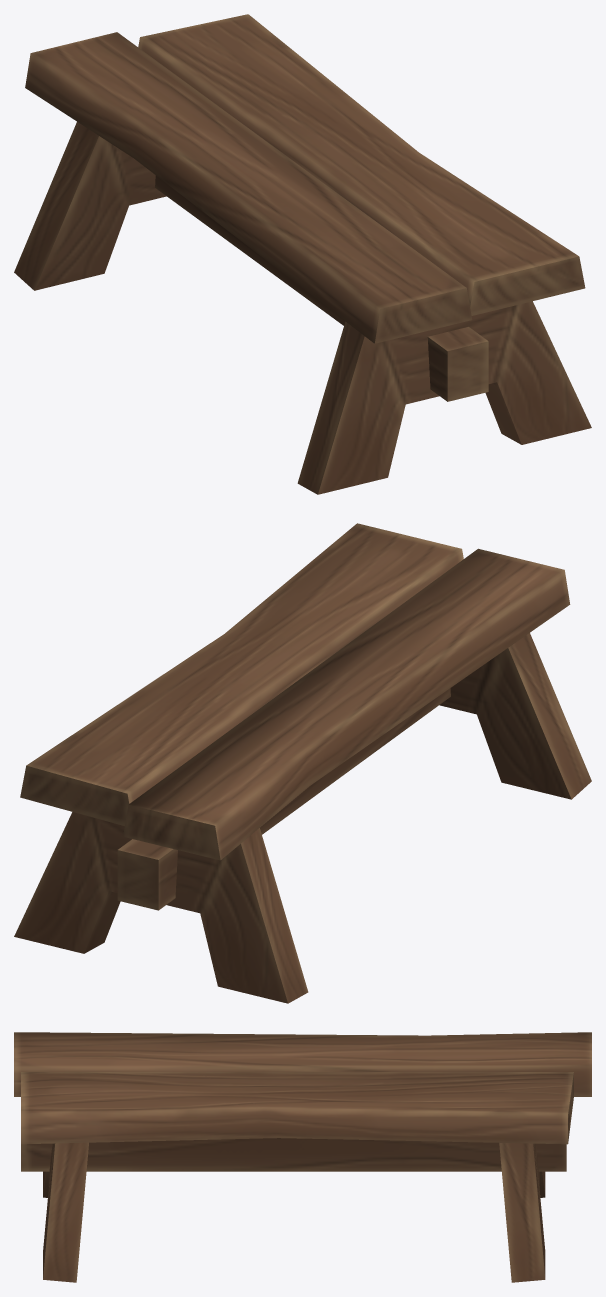
The model's file is Bench1.fbx.
3 views of the same model, one above another, from view 1: azimuth 30°, elevation 25°; view 2: azimuth 150°, elevation 25°; view 3: azimuth 270°, elevation 25° (orthographic). The views are drawn at different scales.
Parts seen in each view (by area): view 1: polySurface2062; view 2: polySurface2062; view 3: polySurface2062.
Part boxes in pixels (x1=…): polySurface2062: x1=14, y1=14, x2=591, y2=494; polySurface2062: x1=14, y1=523, x2=591, y2=1003; polySurface2062: x1=14, y1=1032, x2=591, y2=1282.
Bounding box in the file's own units: 74.71 × 49.8 × 165.
Materials: 1 (1 with a texture image).
